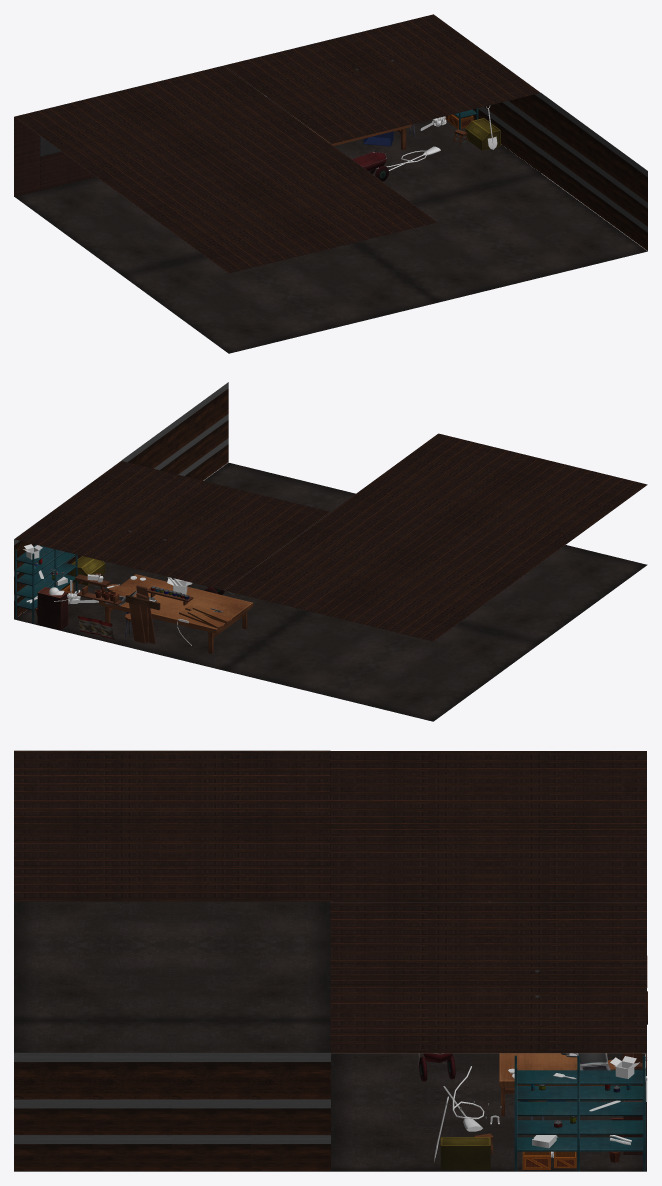
File: BaoLuoGongZuoShi_01.FBX
The picture shows the model from 3 angles, top to bottom: view 1: azimuth 30°, elevation 25°; view 2: azimuth 150°, elevation 25°; view 3: azimuth 270°, elevation 25°; orthographic projection. The views are drawn at different scales.
Parts seen in each view (by area): view 1: BaoLuoGongZuoShi_01_dawujian_01, BaoLuoGongZuoShi_01_dawujian_02; view 2: BaoLuoGongZuoShi_01_dawujian_01, BaoLuoGongZuoShi_01_dawujian_02, BaoLuoGongZuoShi_01_wujian_04; view 3: BaoLuoGongZuoShi_01_dawujian_01, BaoLuoGongZuoShi_01_dawujian_02, BaoLuoGongZuoShi_01_wujian_04.
Part boxes in pixels (box(x1,y1,x2,y2)): BaoLuoGongZuoShi_01_dawujian_01: box(14, 14, 647, 353); BaoLuoGongZuoShi_01_dawujian_02: box(293, 108, 500, 150); BaoLuoGongZuoShi_01_dawujian_01: box(14, 382, 647, 721); BaoLuoGongZuoShi_01_dawujian_02: box(15, 544, 253, 653); BaoLuoGongZuoShi_01_wujian_04: box(23, 544, 192, 645); BaoLuoGongZuoShi_01_dawujian_01: box(14, 750, 646, 1171); BaoLuoGongZuoShi_01_dawujian_02: box(440, 956, 647, 1171); BaoLuoGongZuoShi_01_wujian_04: box(434, 1054, 647, 1161).
Size of the model in its own units: 9006 by 1661 by 7957.
